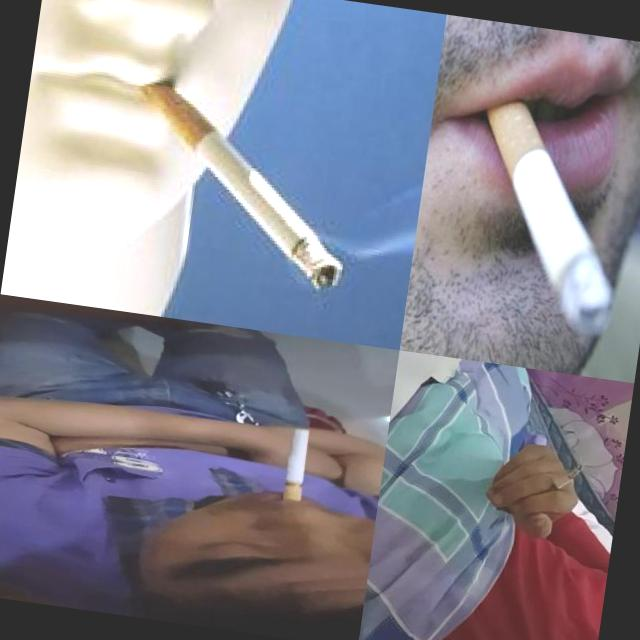smoke: (112, 63, 368, 294), (450, 73, 640, 344), (283, 428, 312, 505), (547, 460, 583, 498)
